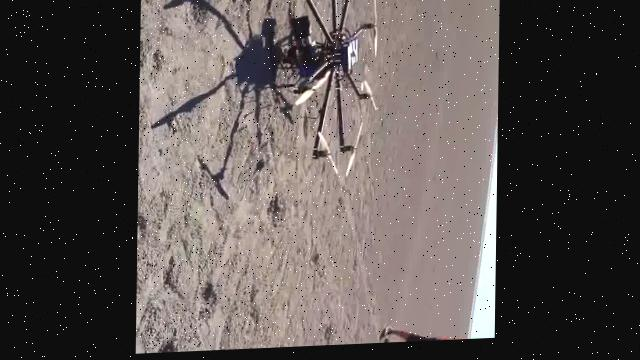drone: (136, 0, 426, 355)
